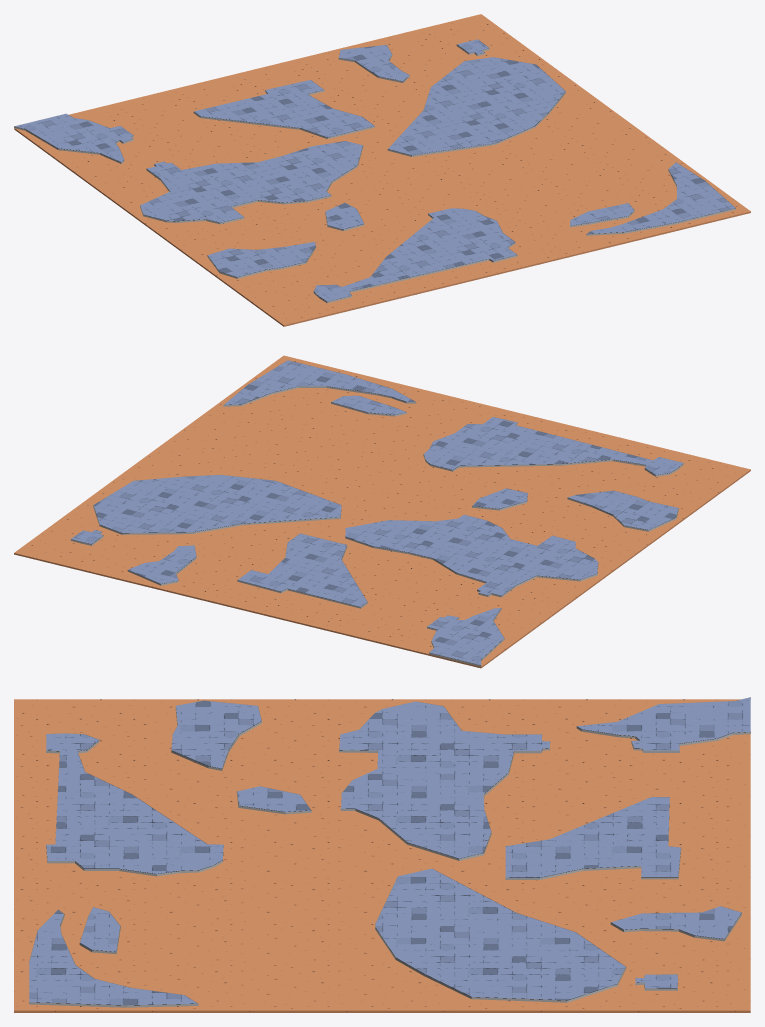
File: Room16B_Floor_Tiles_Art.fbx
The picture shows the model from 3 angles, top to bottom: view 1: azimuth 30°, elevation 25°; view 2: azimuth 150°, elevation 25°; view 3: azimuth 270°, elevation 25°; orthographic projection. The views are drawn at different scales.
Parts seen in each view (by area): view 1: Room16B_Floor_Sand, Room16B_Floor_Tiles_Art, Room16B_Floor_Tiles_Shadows; view 2: Room16B_Floor_Sand, Room16B_Floor_Tiles_Art, Room16B_Floor_Tiles_Shadows; view 3: Room16B_Floor_Sand, Room16B_Floor_Tiles_Art, Room16B_Floor_Tiles_Shadows.
Boxes of the visible parts, x1=… form: Room16B_Floor_Sand: x1=14, y1=14, x2=750, y2=326; Room16B_Floor_Tiles_Art: x1=14, y1=39, x2=735, y2=301; Room16B_Floor_Tiles_Shadows: x1=14, y1=39, x2=735, y2=303; Room16B_Floor_Sand: x1=14, y1=355, x2=750, y2=668; Room16B_Floor_Tiles_Art: x1=71, y1=360, x2=683, y2=665; Room16B_Floor_Tiles_Shadows: x1=70, y1=361, x2=683, y2=666; Room16B_Floor_Sand: x1=14, y1=699, x2=750, y2=1012; Room16B_Floor_Tiles_Art: x1=29, y1=697, x2=750, y2=1005; Room16B_Floor_Tiles_Shadows: x1=29, y1=697, x2=750, y2=1007.
Size of the model in its own units: 2395 by 15.51 by 2395.
